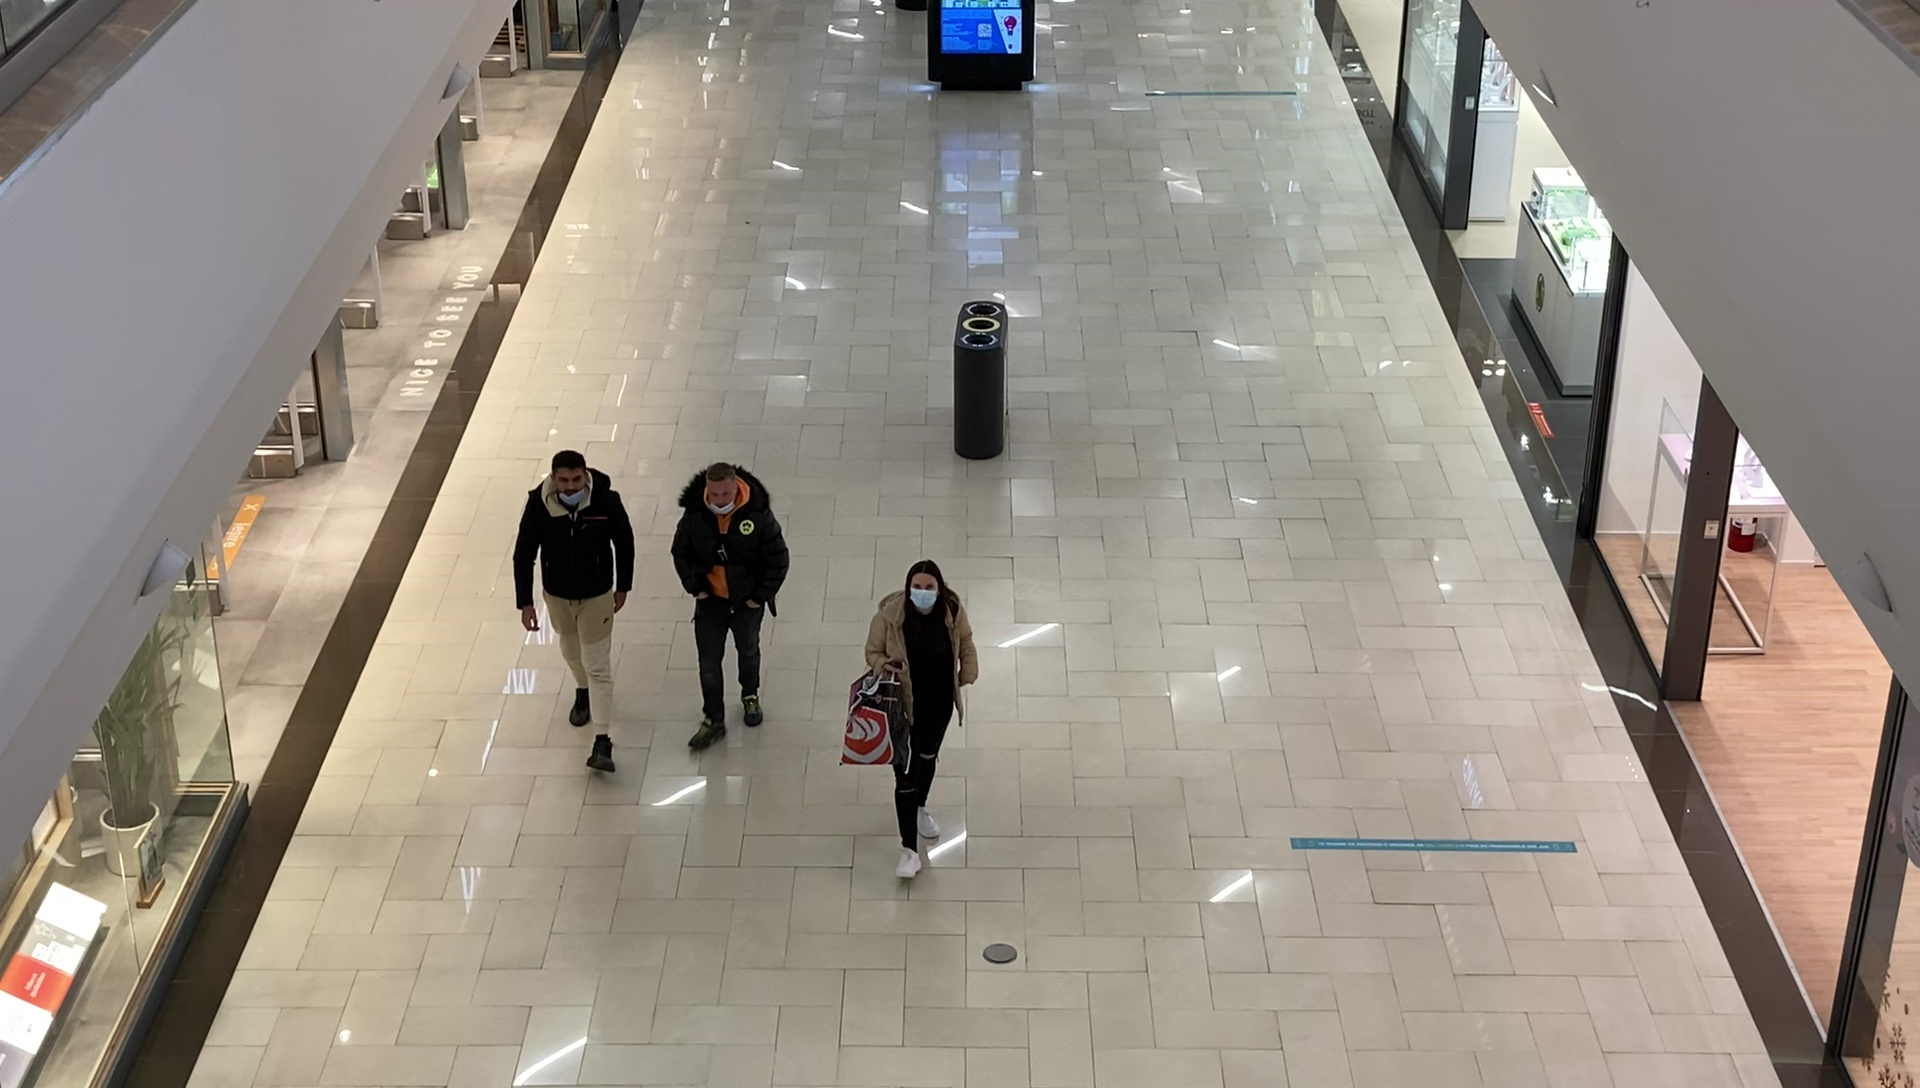person: (515, 451, 633, 776), (864, 559, 981, 878), (673, 461, 789, 752)
